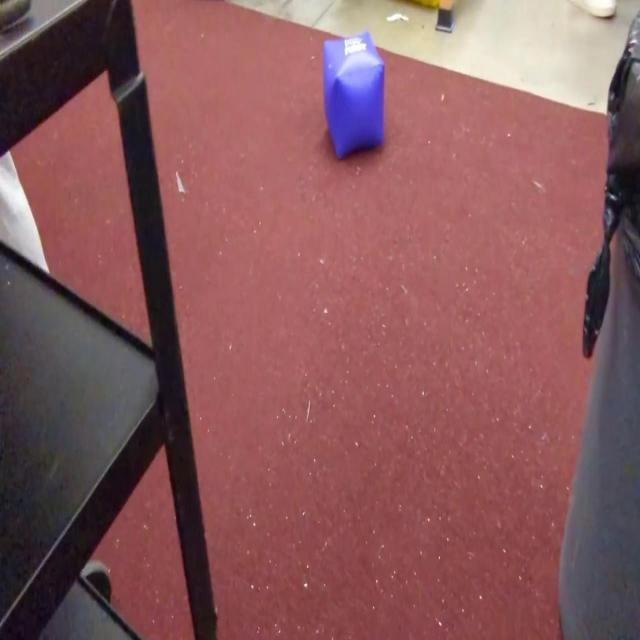frc_cube: (324, 28, 386, 158)
